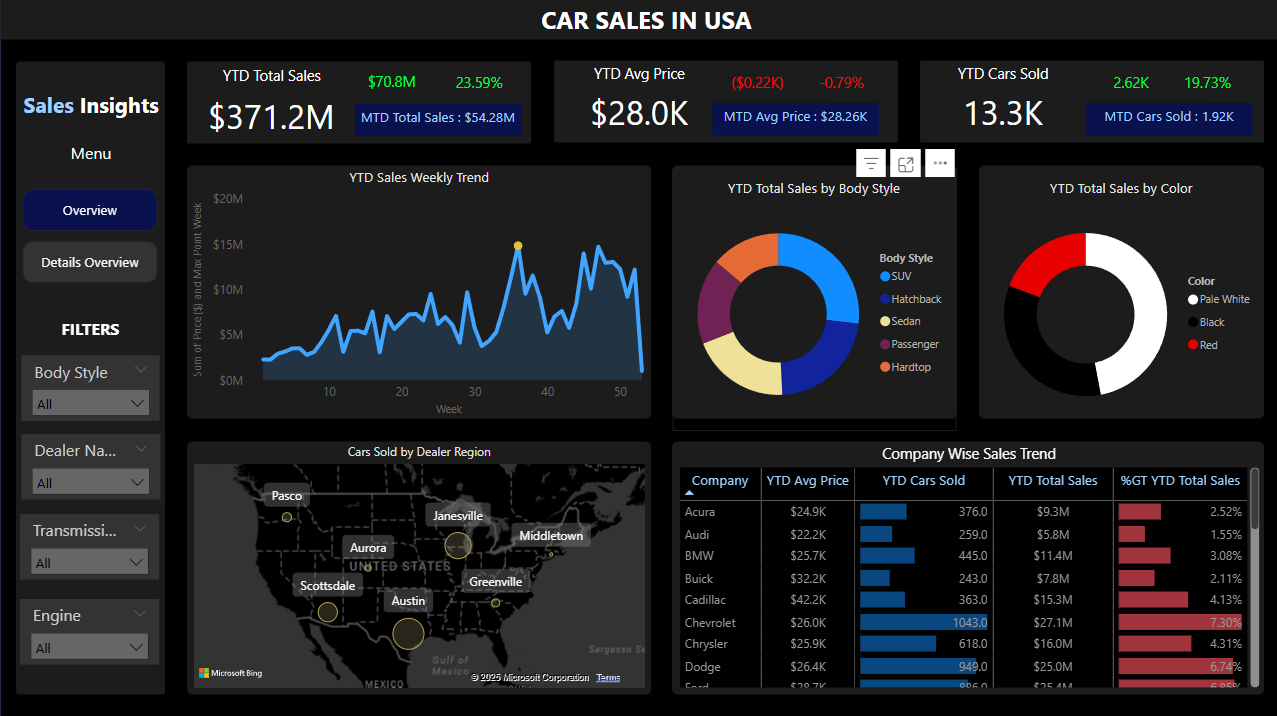

This screenshot's page, from the dashboard's own definition file:
{"tool":"powerbi","page":{"name":"Overview","canvas":[1280,720],"ordinal":0},"visuals":[{"type":"card","title":"YTD Total Sales","fields":{"Values":["car_data.YTD Total Sales"]},"box":[189,66,166,83],"z":0},{"type":"card","fields":{"Values":["car_data.Sales Difference"]},"box":[346.5,64.1,91.2,41.8],"z":1000},{"type":"card","fields":{"Values":["car_data.YOY Sales Growth"]},"box":[437.6,64.7,83.5,41.2],"z":2000},{"type":"card","fields":{"Values":["car_data.MTD KPI"]},"box":[354.7,105.3,166.5,31.8],"z":3000},{"type":"card","title":"YTD Avg Price","fields":{"Values":["car_data.YTD Avg Price"]},"box":[556.2,63.8,166.2,80],"z":4000},{"type":"card","fields":{"Values":["car_data.Avg Price Diff"]},"box":[712.5,65,90,41.2],"z":5000},{"type":"card","fields":{"Values":["car_data.YOY Avg Price"]},"box":[796.2,65,90,41.2],"z":6000},{"type":"card","fields":{"Values":["car_data.MTD Avg Price KPI"]},"box":[712.5,103.8,166.2,32.5],"z":7000},{"type":"card","title":"YTD Avg Price","fields":{"Values":["car_data.YTD Avg Price"]},"box":[1371.7,56.7,168.3,80],"z":8000},{"type":"card","title":"YTD Cars Sold","fields":{"Values":["car_data.YTD Cars Sold"]},"box":[920,63.8,166.2,80],"z":9000},{"type":"card","fields":{"Values":["car_data.Cars Sold Diff"]},"box":[1086,65,90,41],"z":10000},{"type":"card","fields":{"Values":["car_data.YOY Cars Sold Growth"]},"box":[1162,65,90,41],"z":11000},{"type":"card","fields":{"Values":["car_data.MTD Cars Sold KPI"]},"box":[1086.2,103.8,166.2,32.5],"z":12000},{"type":"areaChart","title":"YTD Sales Weekly Trend","fields":{"Category":["Calendar Table.Week"],"Y":["Sum(car_data.Price ($))","car_data.Max Point Week"]},"box":[188.9,168.9,461.1,253.3],"z":13000},{"type":"donutChart","fields":{"Category":["car_data.Body Style"],"Y":["car_data.YTD Total Sales"]},"box":[673,180,283,253],"z":14000},{"type":"donutChart","fields":{"Y":["car_data.YTD Total Sales"],"Category":["car_data.Color"]},"box":[979,180,285,254],"z":15000},{"type":"map","title":"Cars Sold by Dealer Region","fields":{"Category":["car_data.Dealer_Region"],"Size":["car_data.YTD Cars Sold"]},"box":[189,444,461,250],"z":16000},{"type":"tableEx","title":"Company Wise Sales Trend","fields":{"Values":["car_data.Company","car_data.YTD Avg Price","car_data.YTD Cars Sold","car_data.YTD Total Sales","Divide(car_data.YTD Total Sales, ScopedEval(car_data.YTD Total Sales, []))"]},"box":[673.3,444.2,590.8,250],"z":17000},{"type":"textbox","box":[535.7,0,230,42.9],"z":18000},{"type":"slicer","fields":{"Values":["car_data.Body Style"]},"box":[21.4,355.7,138.6,65.7],"z":19000},{"type":"slicer","fields":{"Values":["car_data.Dealer_Name"]},"box":[21.1,434.4,138.9,65.6],"z":20000},{"type":"slicer","fields":{"Values":["car_data.Transmission"]},"box":[20,515.6,138.9,65.6],"z":21000},{"type":"slicer","fields":{"Values":["car_data.Engine"]},"box":[20,600,138.9,65.6],"z":22000},{"type":"textbox","box":[21.7,313.3,138.3,43.3],"z":23000},{"type":"textbox","box":[12,86,157,43],"z":24000},{"type":"textbox","box":[60,137,62,37],"z":25000},{"type":"pageNavigator","box":[23,190,135,95],"z":26000}]}

Visuals, with their boxes in screenshot pixels (x1, y1, x2, y2), scaled from the page's 1280x720 canvas onto the 1277x716 screenshot:
"YTD Total Sales" card: {"left": 189, "top": 66, "right": 354, "bottom": 148}
card - car_data.Sales Difference: {"left": 346, "top": 64, "right": 437, "bottom": 105}
card - car_data.YOY Sales Growth: {"left": 437, "top": 64, "right": 520, "bottom": 105}
card - car_data.MTD KPI: {"left": 354, "top": 105, "right": 520, "bottom": 136}
"YTD Avg Price" card: {"left": 555, "top": 63, "right": 721, "bottom": 143}
card - car_data.Avg Price Diff: {"left": 711, "top": 65, "right": 801, "bottom": 106}
card - car_data.YOY Avg Price: {"left": 794, "top": 65, "right": 884, "bottom": 106}
card - car_data.MTD Avg Price KPI: {"left": 711, "top": 103, "right": 877, "bottom": 136}
"YTD Cars Sold" card: {"left": 918, "top": 63, "right": 1084, "bottom": 143}
card - car_data.Cars Sold Diff: {"left": 1083, "top": 65, "right": 1173, "bottom": 105}
card - car_data.YOY Cars Sold Growth: {"left": 1159, "top": 65, "right": 1249, "bottom": 105}
card - car_data.MTD Cars Sold KPI: {"left": 1084, "top": 103, "right": 1249, "bottom": 136}
"YTD Sales Weekly Trend" areaChart: {"left": 188, "top": 168, "right": 648, "bottom": 420}
donutChart - car_data.Body Style x car_data.YTD Total Sales: {"left": 671, "top": 179, "right": 954, "bottom": 431}
donutChart - car_data.YTD Total Sales x car_data.Color: {"left": 977, "top": 179, "right": 1261, "bottom": 432}
"Cars Sold by Dealer Region" map: {"left": 189, "top": 442, "right": 648, "bottom": 690}
"Company Wise Sales Trend" tableEx: {"left": 672, "top": 442, "right": 1261, "bottom": 690}
textbox: {"left": 534, "top": 0, "right": 764, "bottom": 43}
slicer - car_data.Body Style: {"left": 21, "top": 354, "right": 160, "bottom": 419}
slicer - car_data.Dealer_Name: {"left": 21, "top": 432, "right": 160, "bottom": 497}
slicer - car_data.Transmission: {"left": 20, "top": 513, "right": 159, "bottom": 578}
slicer - car_data.Engine: {"left": 20, "top": 597, "right": 159, "bottom": 662}
textbox: {"left": 22, "top": 312, "right": 160, "bottom": 355}
textbox: {"left": 12, "top": 86, "right": 169, "bottom": 128}
textbox: {"left": 60, "top": 136, "right": 122, "bottom": 173}
pageNavigator: {"left": 23, "top": 189, "right": 158, "bottom": 283}
